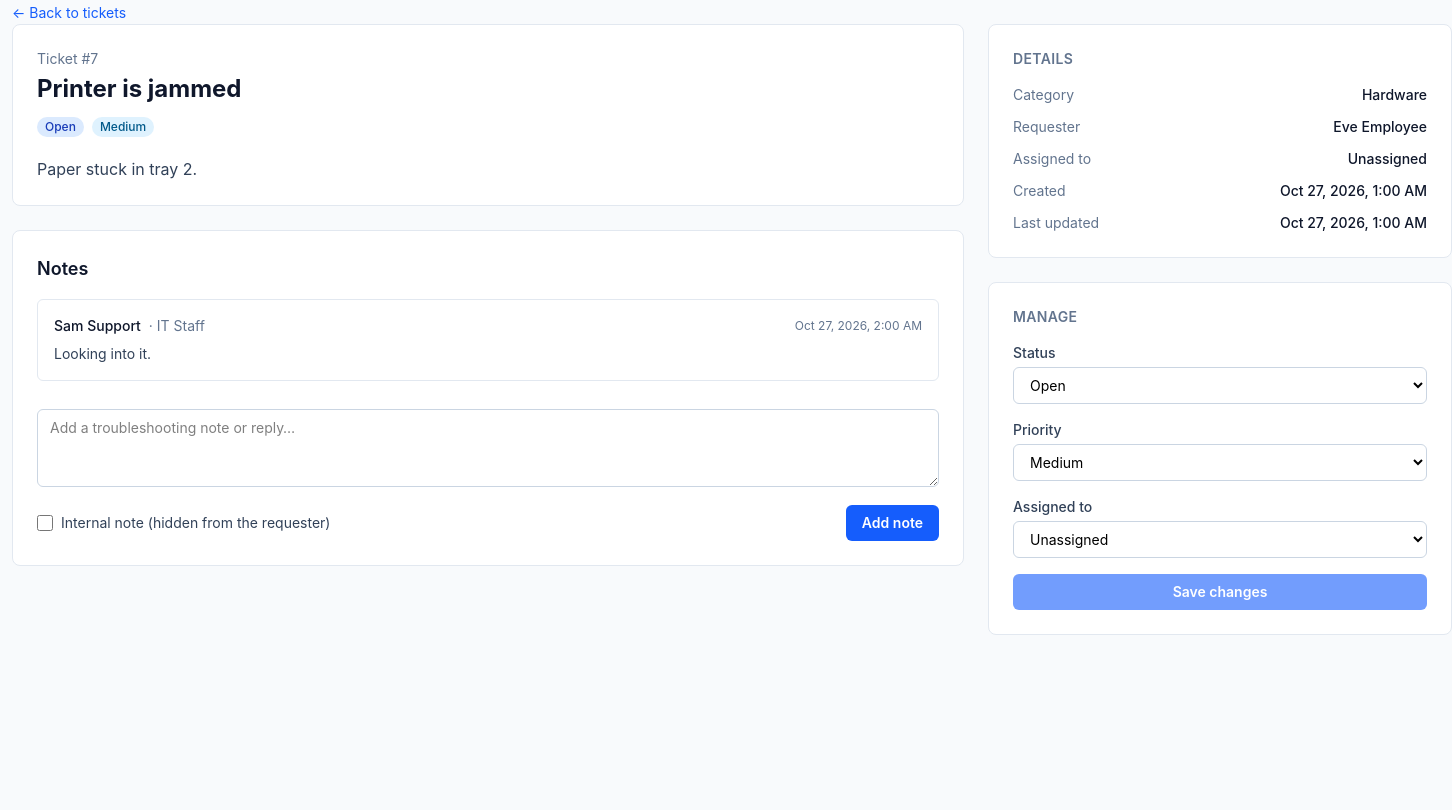
Test: TicketDetailPage › as IT staff › shows an error if the update fails
Select "Resolved" in the dropdown labelled "Status": (1220, 386) [1013,367,1427,404]
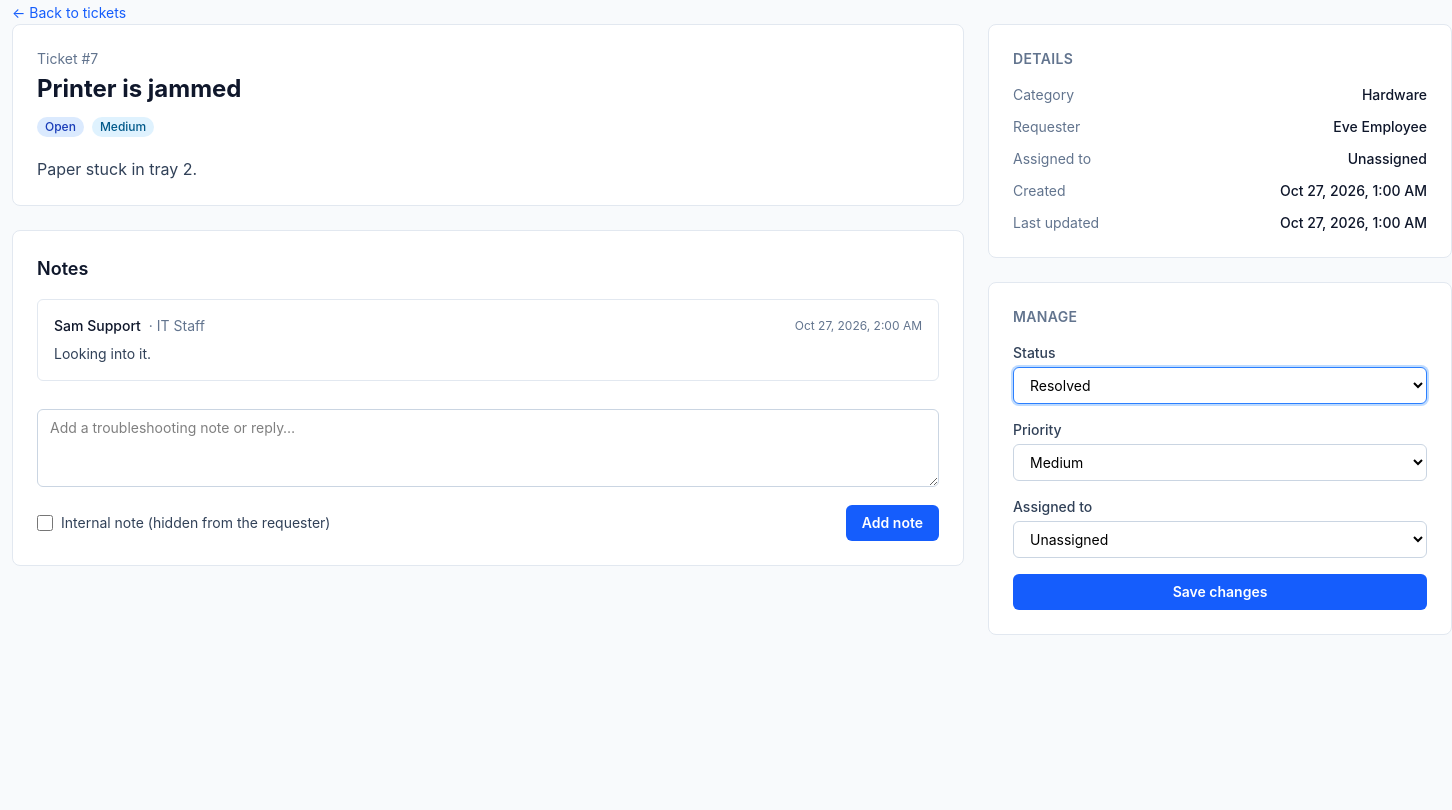
Click the button "Save changes": (1220, 592) [1013,574,1427,610]
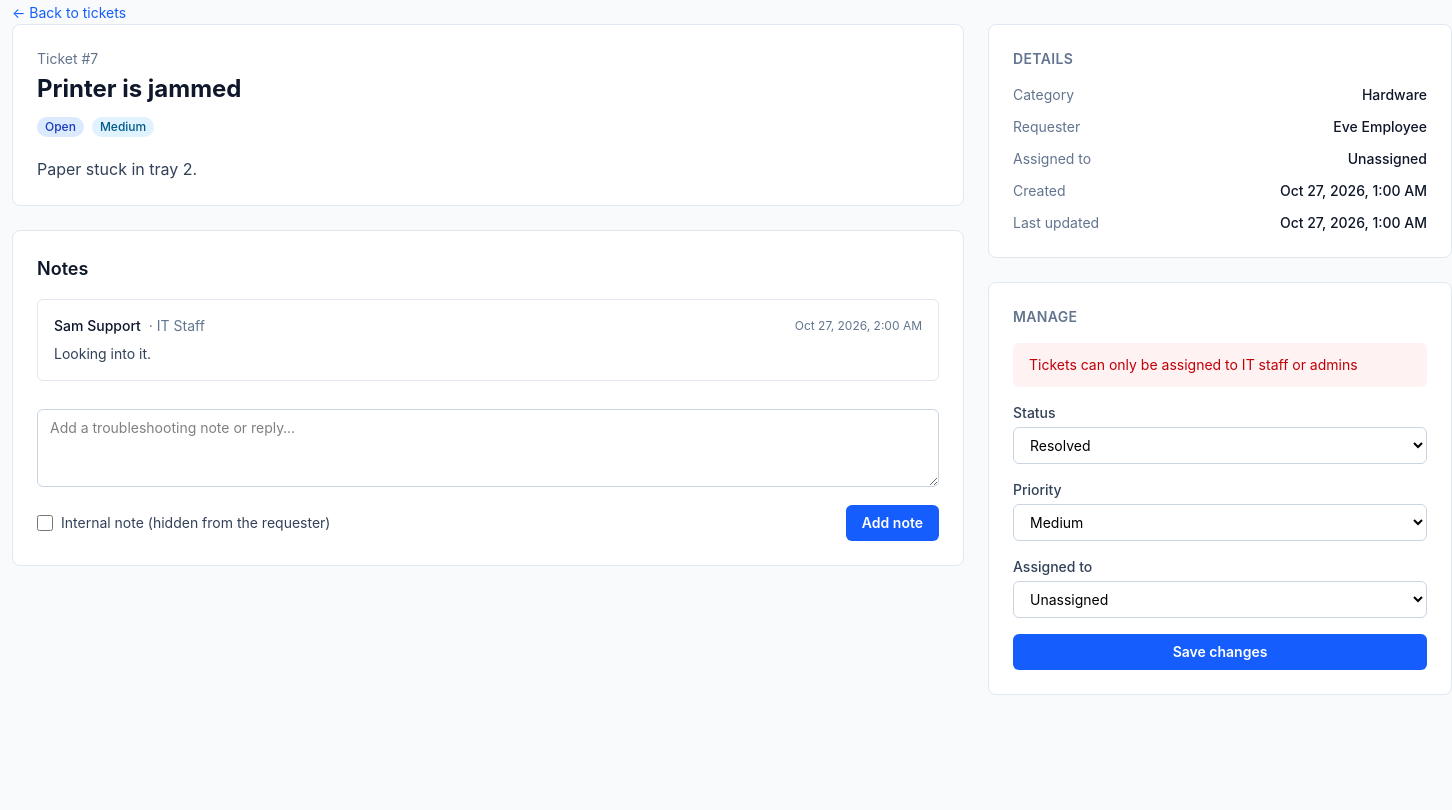
Result: the message shows "can only be assigned" at [1029,356,1358,373]
